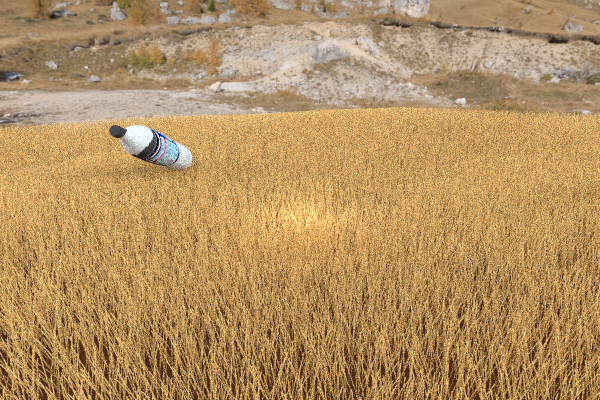bottle: (106, 125, 191, 171)
can: (347, 113, 373, 133), (338, 110, 361, 123)
